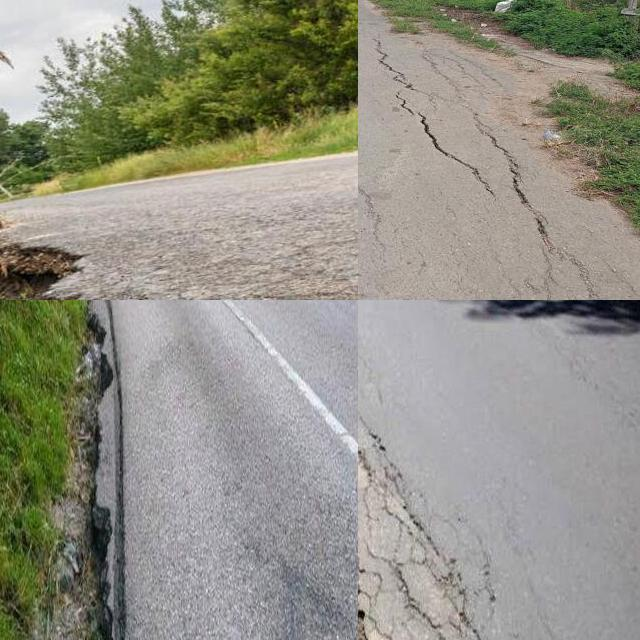Pinggir: (358, 0, 640, 300), (58, 300, 142, 640)
